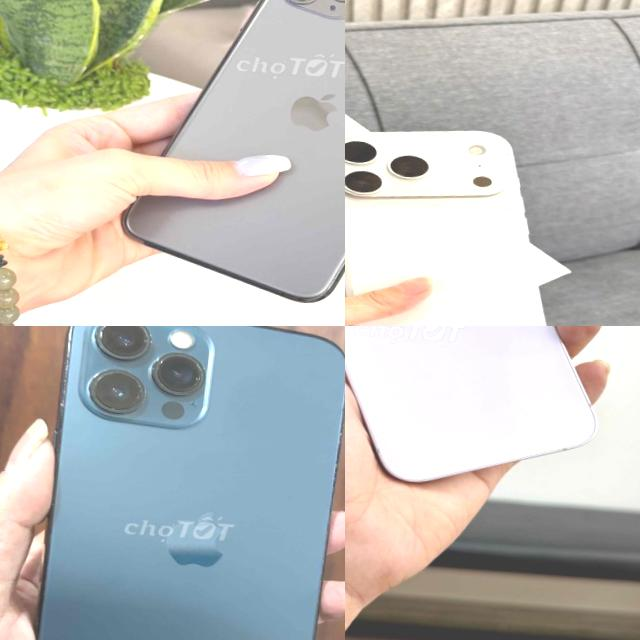gen_11: (123, 0, 345, 301)
gen_12_13: (16, 326, 345, 640)
gen_14: (345, 326, 627, 498)
gen_17: (345, 131, 592, 326)
